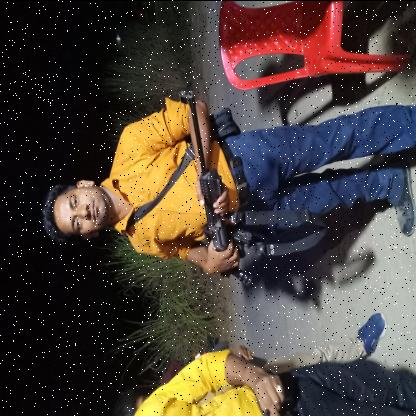rifle: (178, 86, 256, 288)
